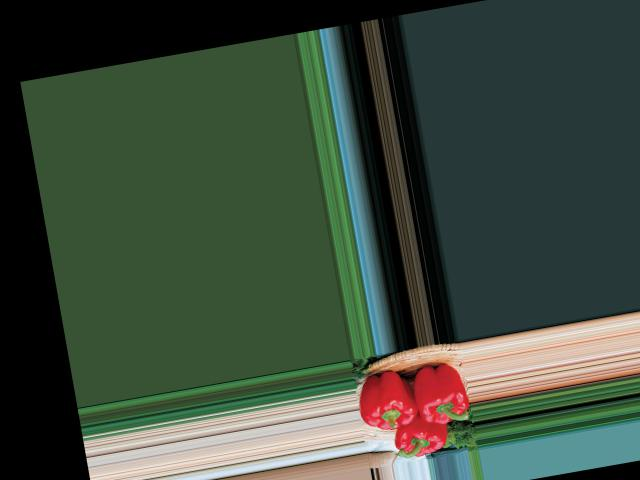bell_pepper: (401, 352, 471, 430)
